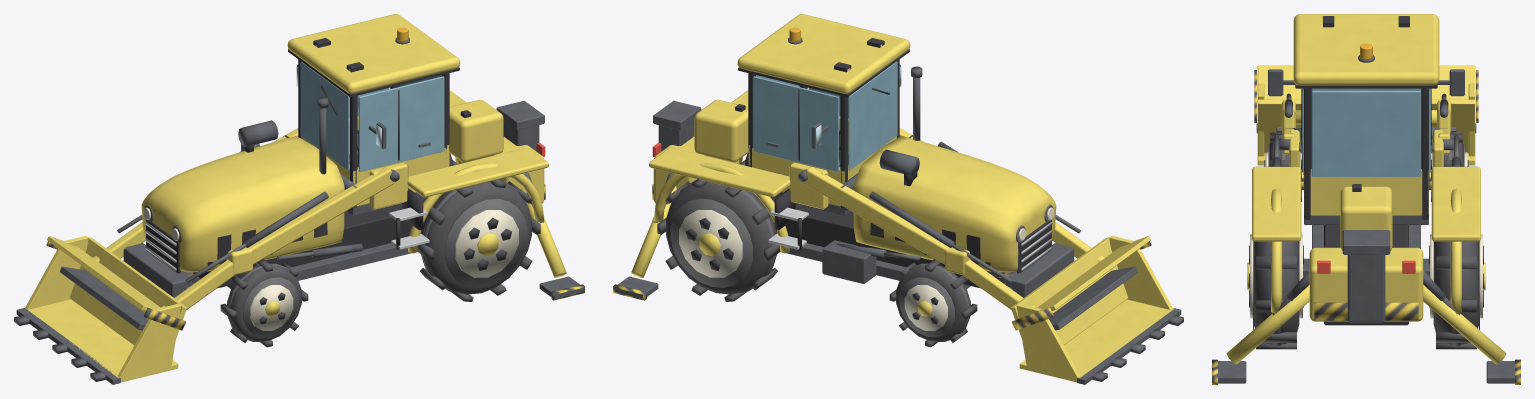
The model's file is Obras_Backhoe.fbx.
3 renders of one model, left to right at view 1: azimuth 30°, elevation 25°; view 2: azimuth 150°, elevation 25°; view 3: azimuth 270°, elevation 25°, orthographic. The views are drawn at different scales.
Visible parts, largest first — view 1: Obras_Backhoe; view 2: Obras_Backhoe; view 3: Obras_Backhoe.
Boxes of the visible parts, x1,y1,x2,y2 form: Obras_Backhoe: [14, 14, 584, 384]; Obras_Backhoe: [613, 14, 1183, 384]; Obras_Backhoe: [1212, 14, 1520, 384].
Bounding box in the file's own units: 6.67 × 3.24 × 3.26.
1 material, 1 textured.
